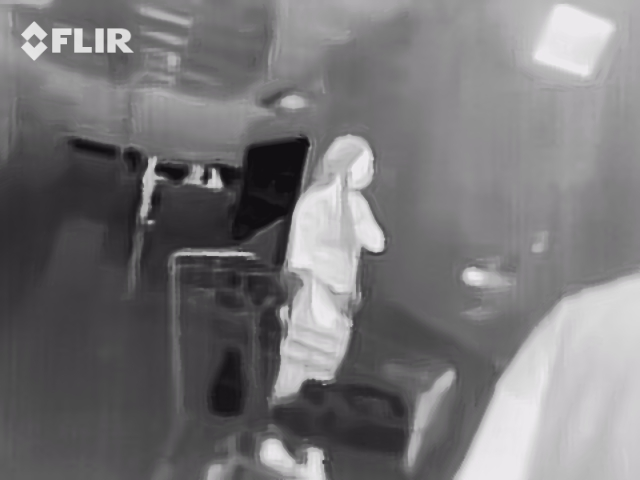head: (322, 134, 376, 190)
